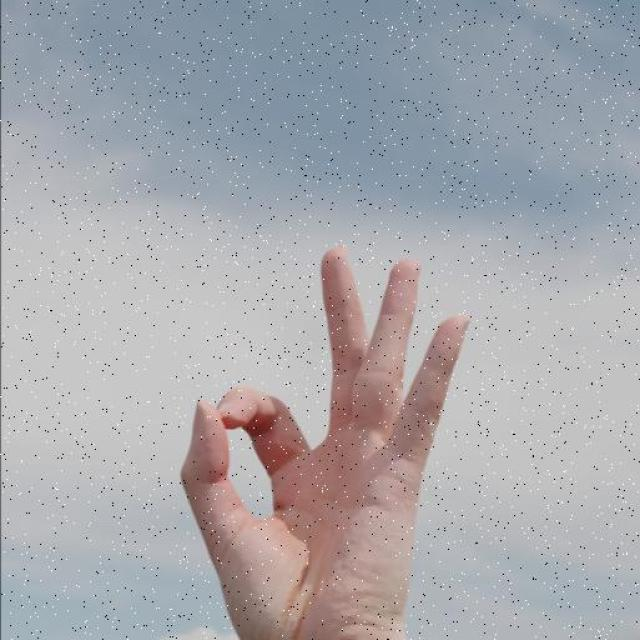F: (176, 240, 474, 638)
